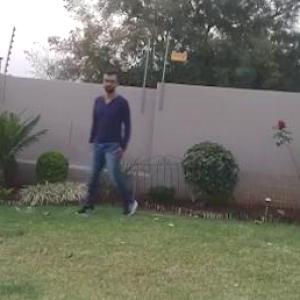follow: (82, 59, 146, 238)
